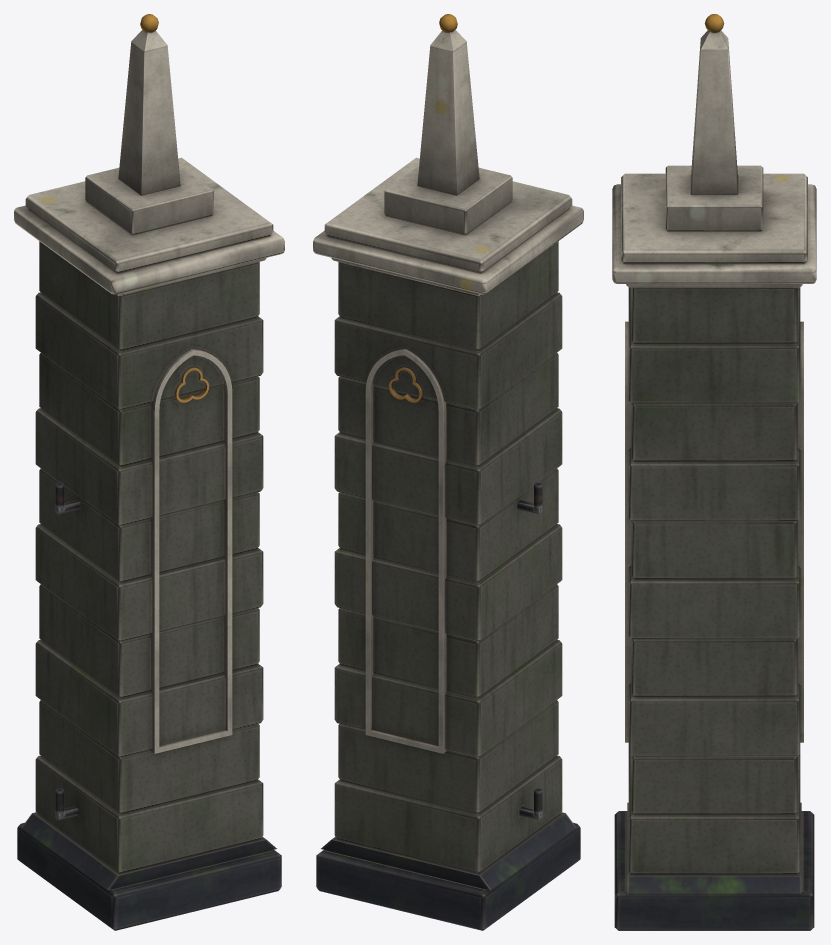
File: RailingGatePier.fbx
3 renders of one model, left to right at view 1: azimuth 30°, elevation 25°; view 2: azimuth 150°, elevation 25°; view 3: azimuth 270°, elevation 25°, orthographic.
Visible parts, largest first — view 1: RailingGatePier; view 2: RailingGatePier; view 3: RailingGatePier.
Part boxes in pixels (x1,y1,x2,y2): RailingGatePier: (14,14,284,930); RailingGatePier: (313,14,583,930); RailingGatePier: (612,14,816,930).
Size of the model in its own units: 271 by 1240 by 262.
